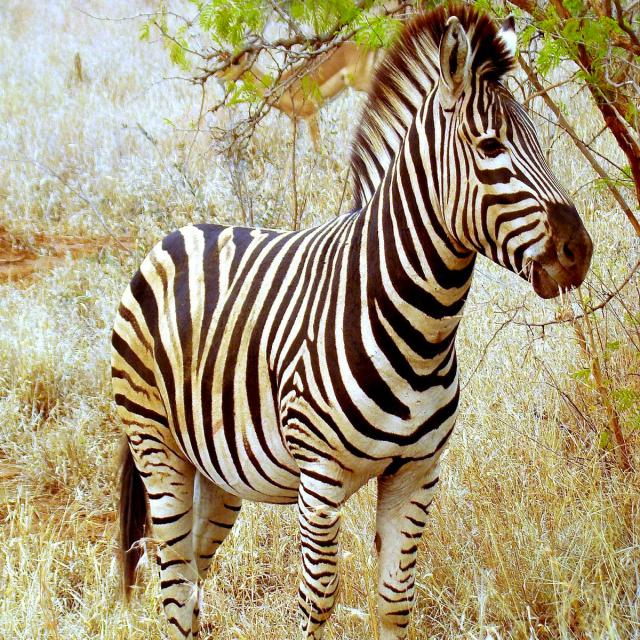zebra: (112, 4, 593, 637)
